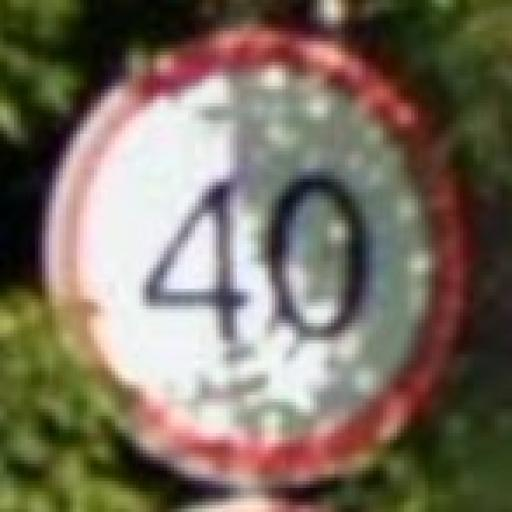traffic_sign: (40, 25, 472, 496)
